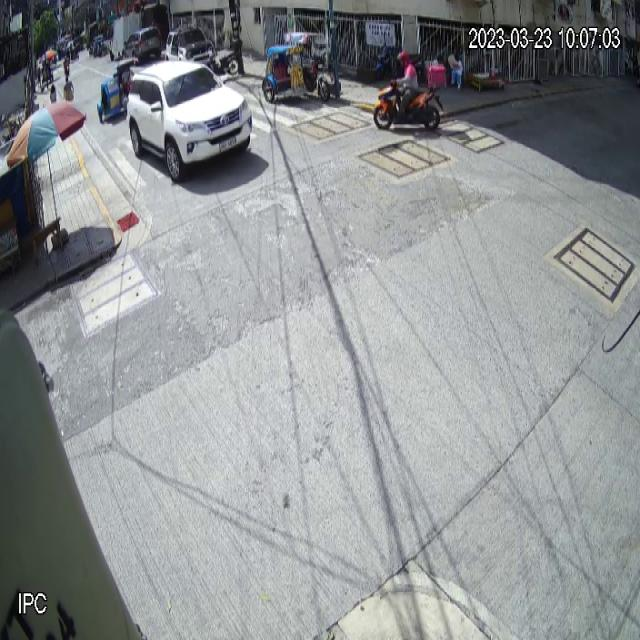Car: (127, 59, 254, 182)
Motorcycle: (373, 77, 446, 133)
Tricycle: (262, 31, 332, 105)
